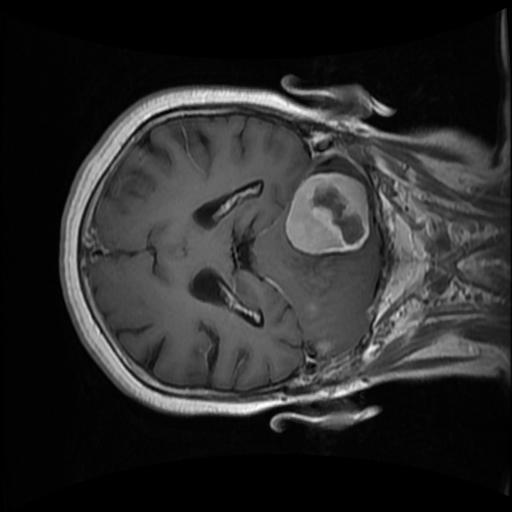meningioma: (283, 172, 368, 255)
